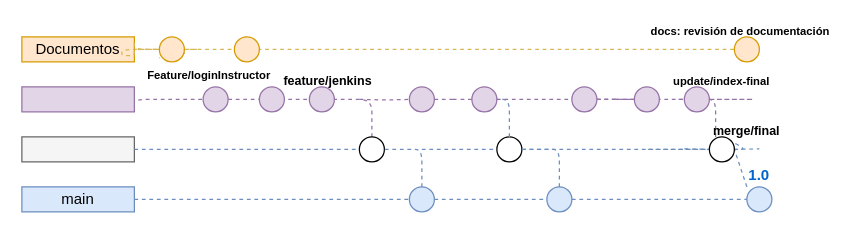
This 856x234 diagram has some shape labels left out. Here are the shapes that lost their labels. From the top down, the box of each, then its label:
(21, 86, 134, 112): Features
(21, 136, 134, 162): develop
